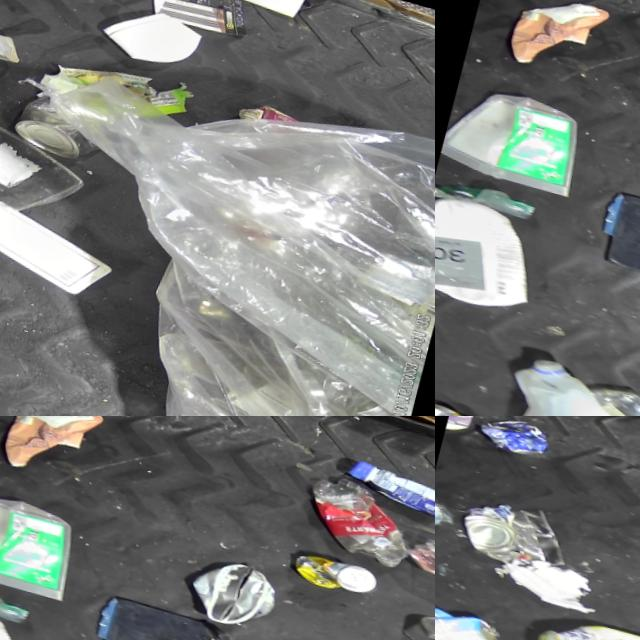can: (174, 547, 284, 637), (460, 494, 573, 574), (12, 83, 110, 163), (282, 535, 390, 601), (473, 416, 555, 466), (435, 595, 519, 640), (388, 596, 435, 640), (435, 392, 501, 416)
milk_jug: (0, 184, 122, 301), (483, 345, 640, 416)
plastic_bottle: (290, 462, 418, 563), (392, 526, 435, 632)
